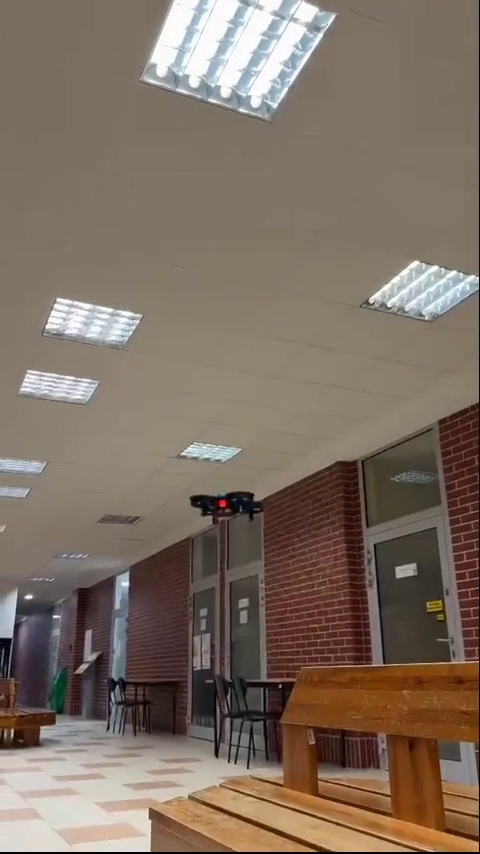drone: (191, 494, 268, 524)
